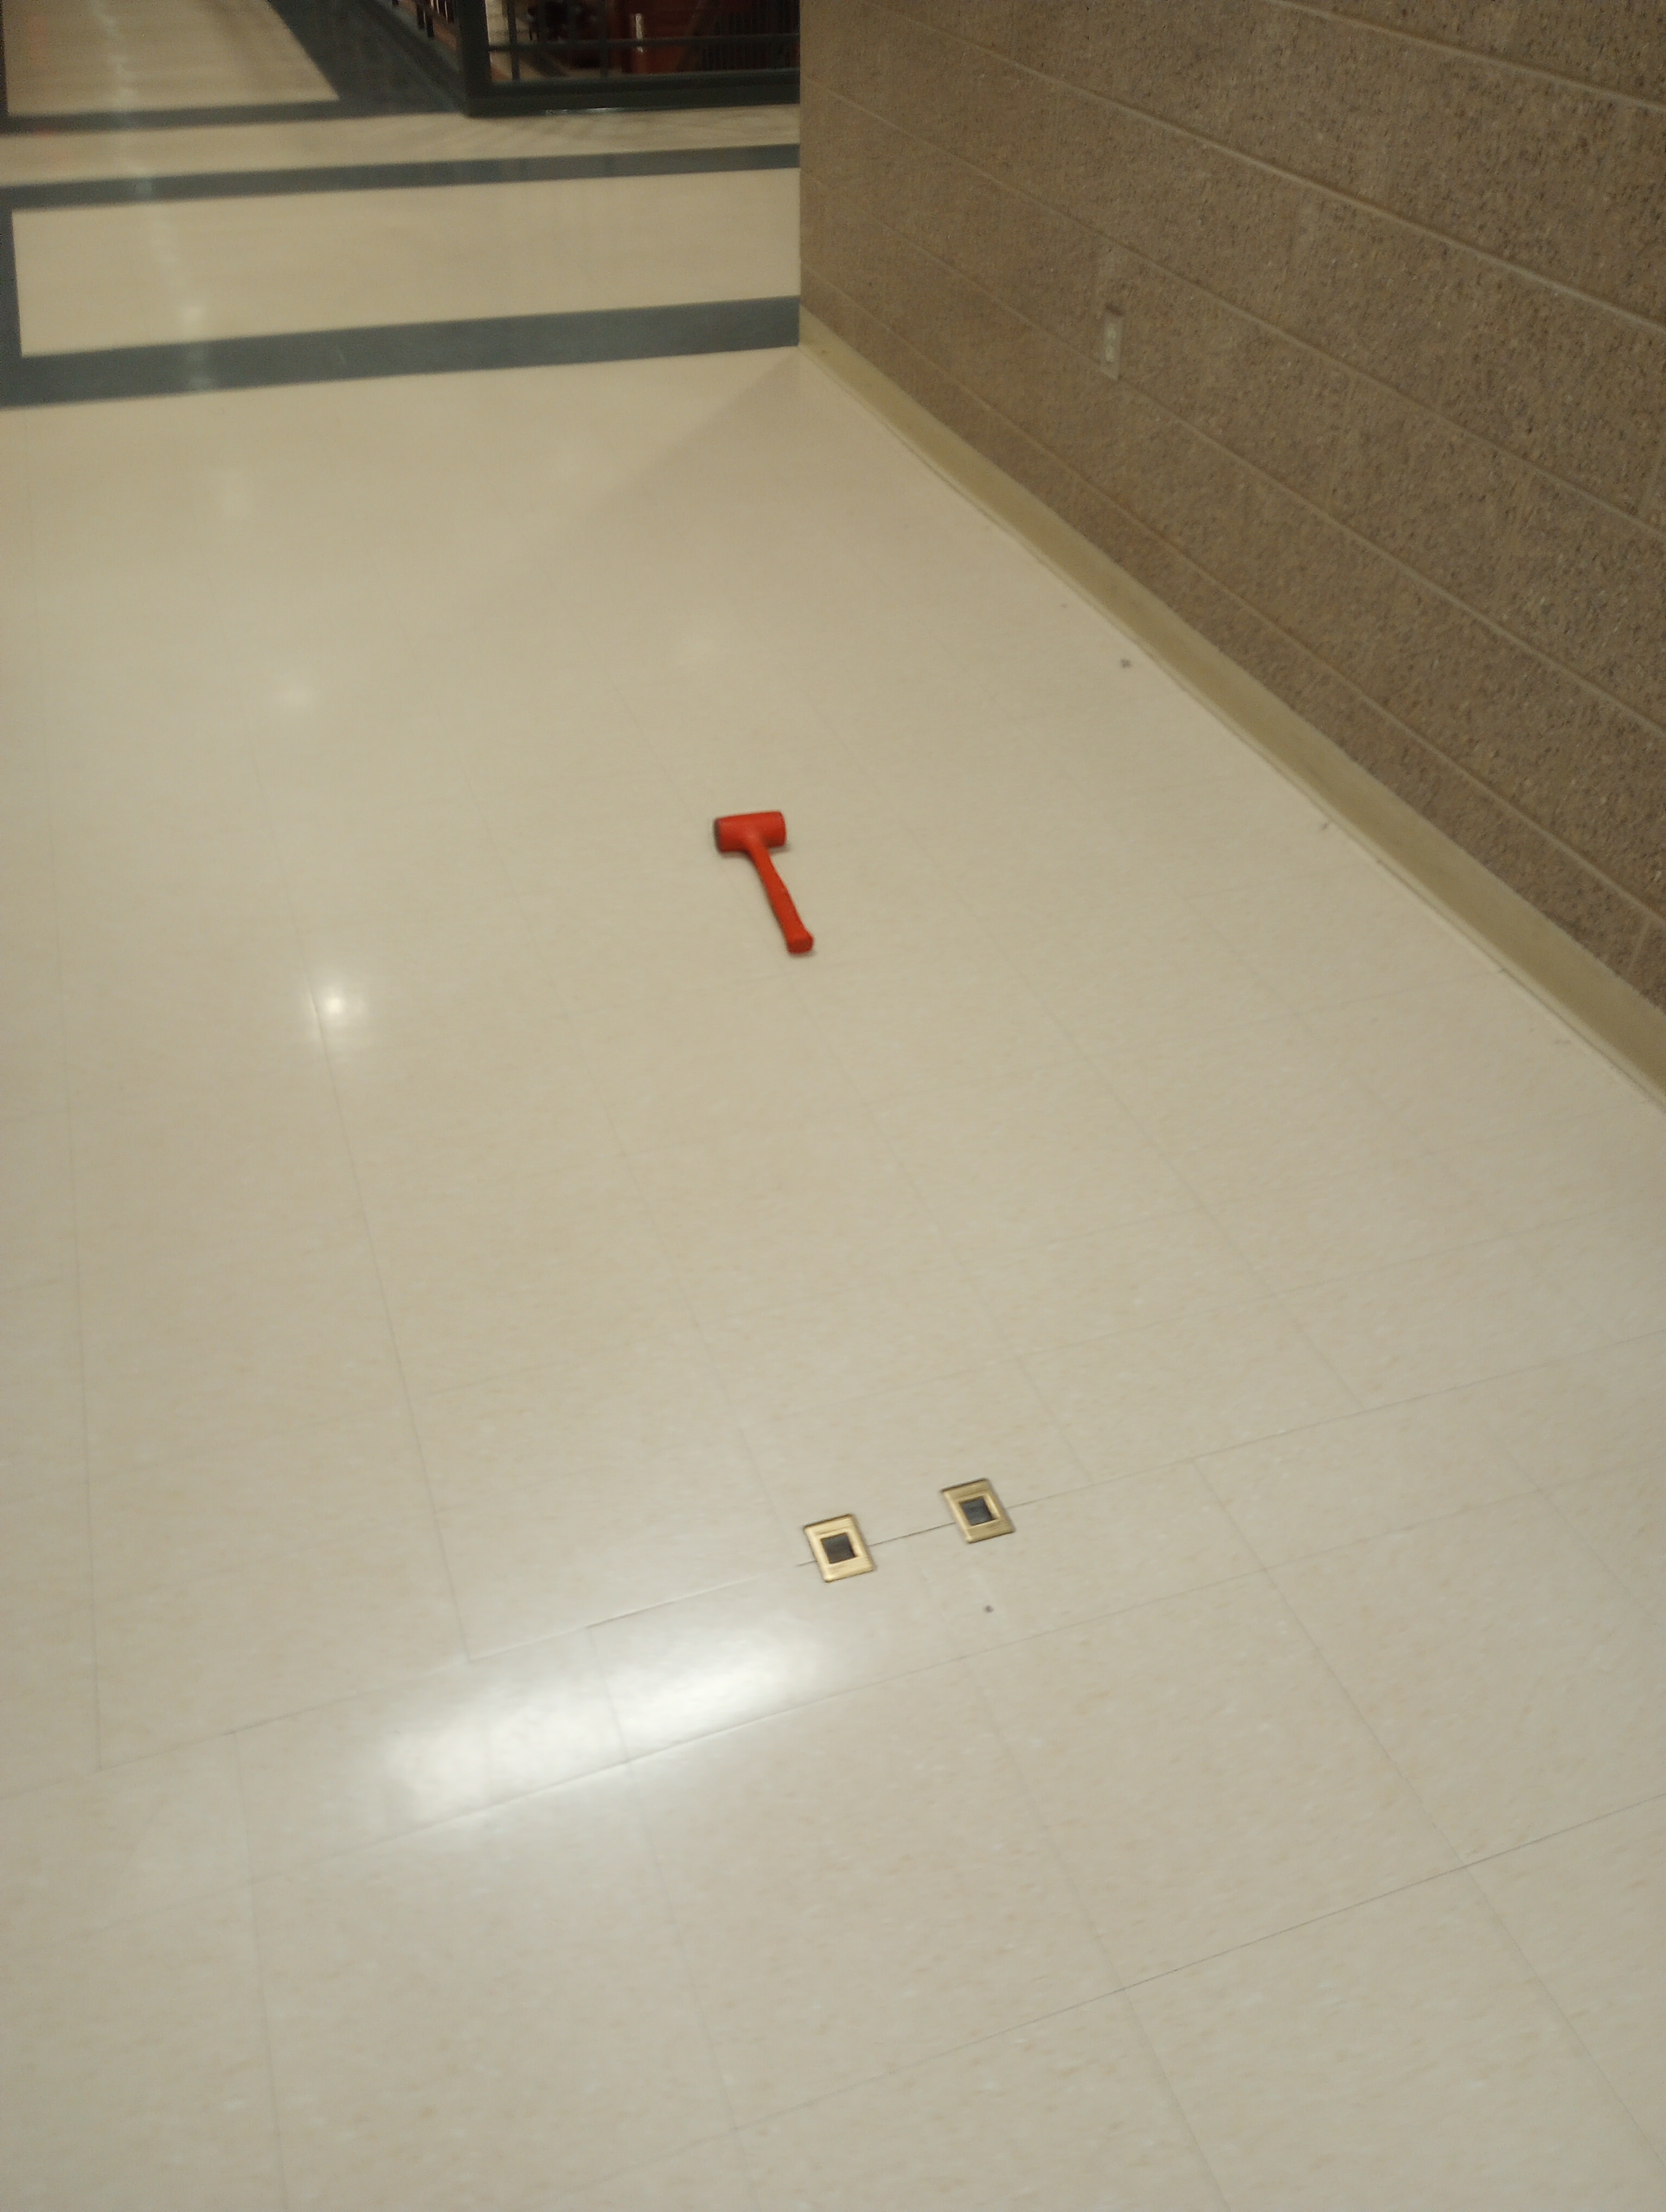hammer: (709, 790, 814, 972)
